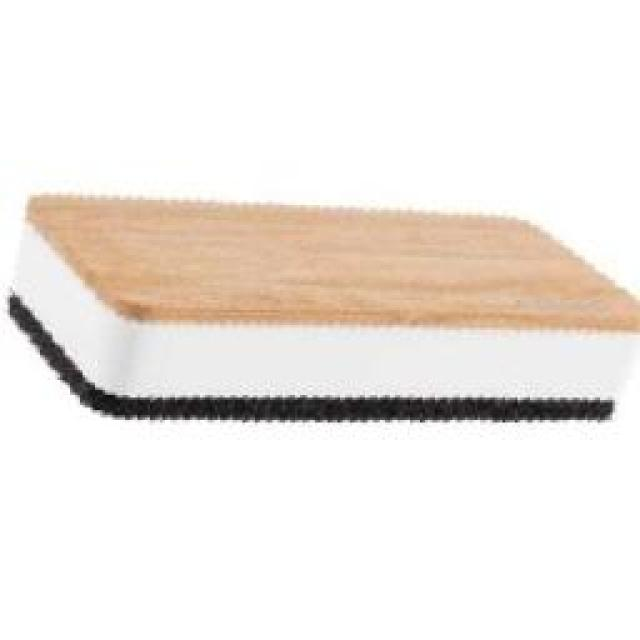Silgi: (4, 191, 640, 422)
